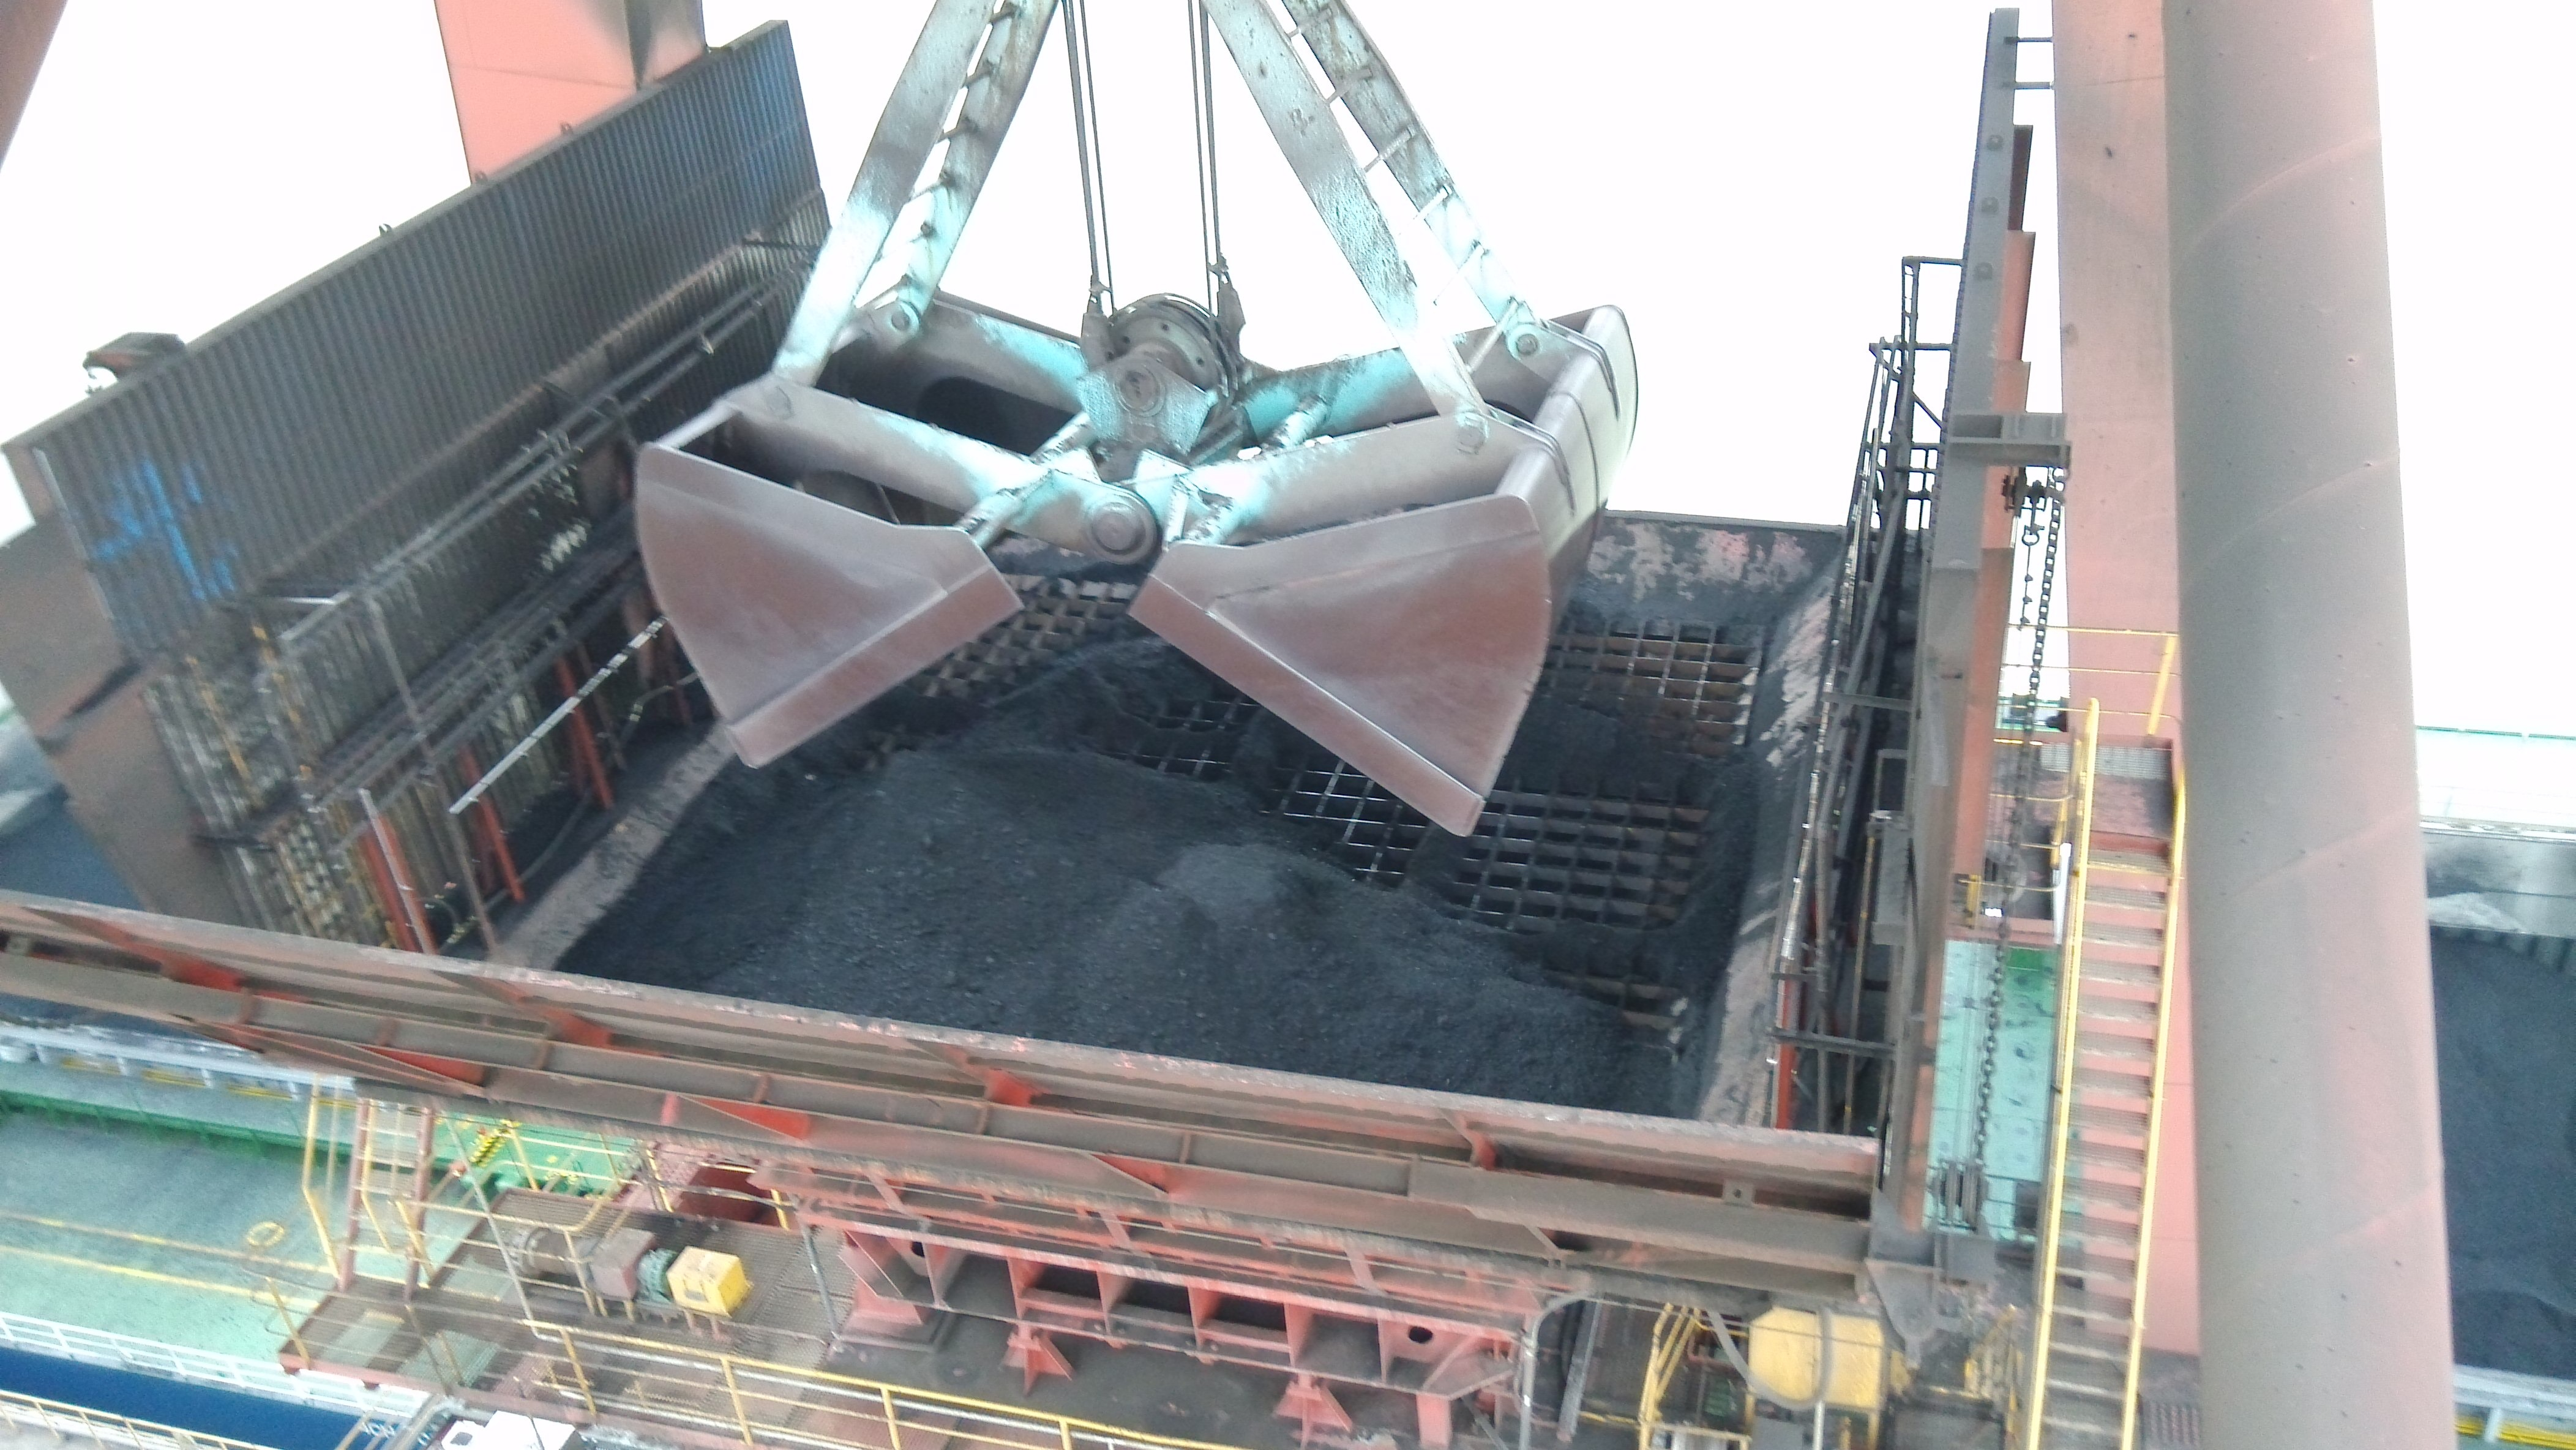grab: (616, 2, 1651, 841)
